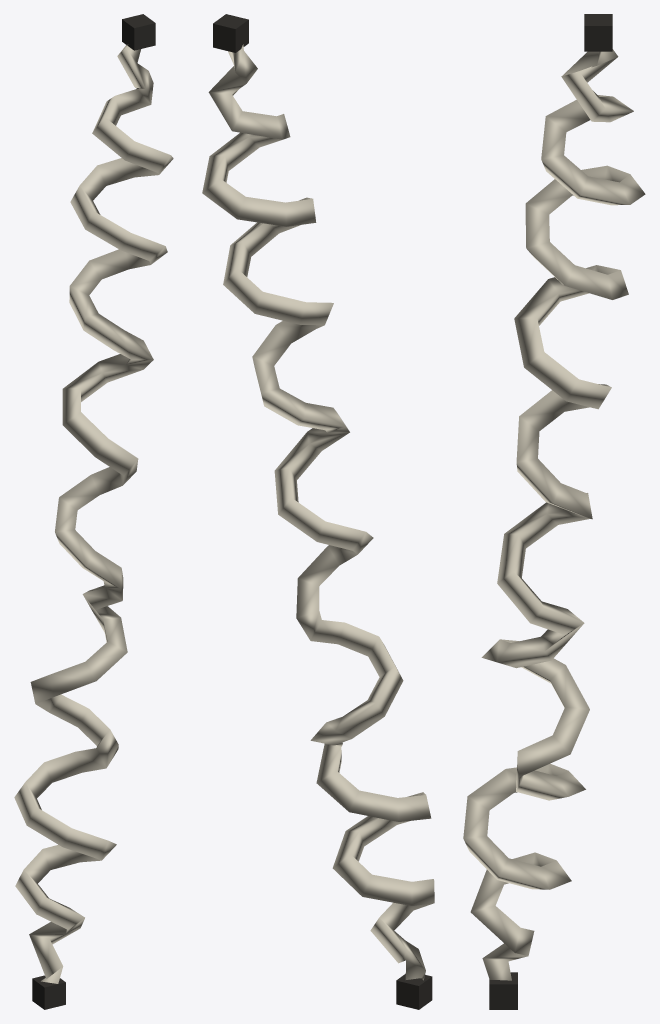
File: LOC_DayXoan.glb
3 renders of one model, left to right at view 1: azimuth 30°, elevation 25°; view 2: azimuth 150°, elevation 25°; view 3: azimuth 270°, elevation 25°, orthographic. The views are drawn at different scales.
Parts seen in each view (by area): view 1: DayXoan_Than, Neo_ThanMay, Neo_OngNghe; view 2: DayXoan_Than, Neo_ThanMay, Neo_OngNghe; view 3: DayXoan_Than, Neo_ThanMay, Neo_OngNghe.
Part boxes in pixels (<box>): DayXoan_Than: <box>14,45,173,983</box>; Neo_ThanMay: <box>122,14,155,50</box>; Neo_OngNghe: <box>32,975,65,1009</box>; DayXoan_Than: <box>202,44,434,980</box>; Neo_ThanMay: <box>213,14,248,52</box>; Neo_OngNghe: <box>396,974,432,1009</box>; DayXoan_Than: <box>463,49,645,980</box>; Neo_ThanMay: <box>584,14,612,51</box>; Neo_OngNghe: <box>489,972,517,1009</box>.
Size of the model in its own units: 0.0746 by 0.369 by 0.0577.
